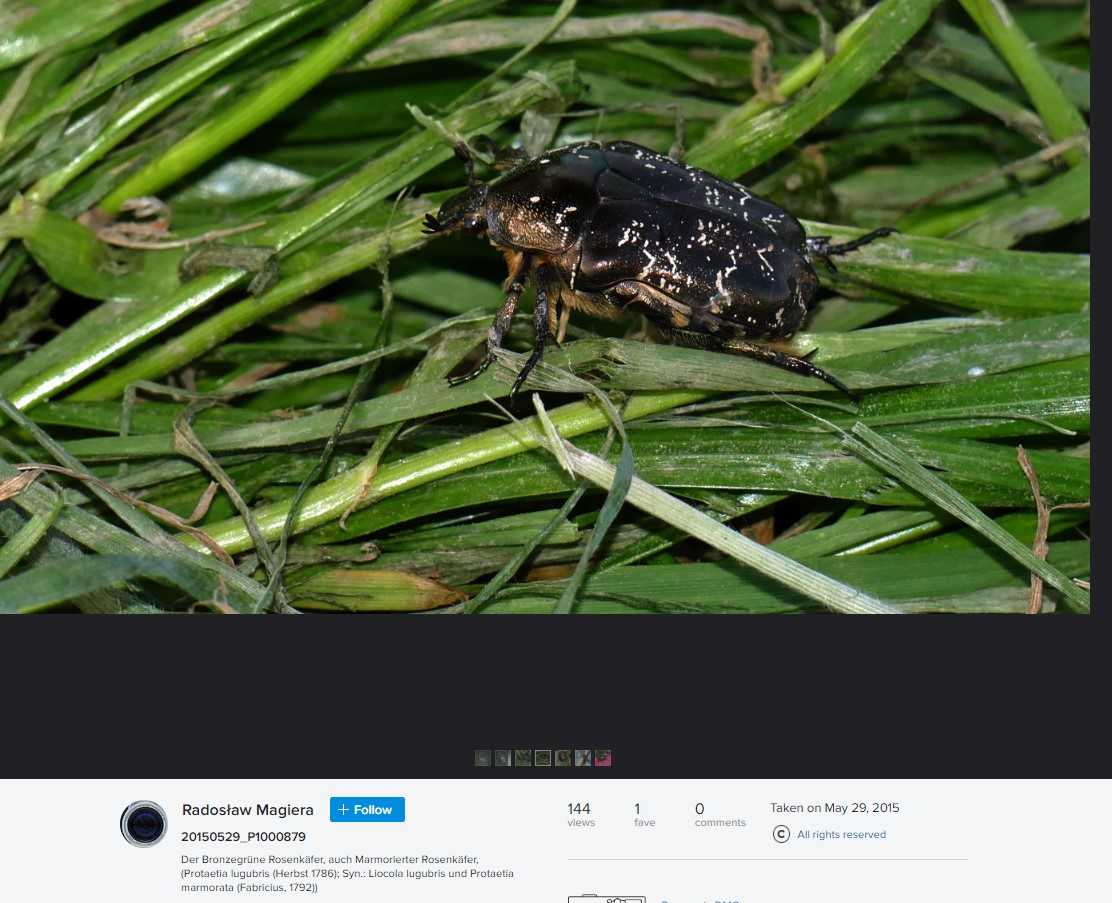Protaetia_lugubris: (420, 137, 866, 417)
